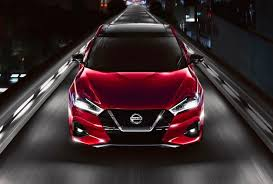Nissan: (78, 25, 204, 147)
